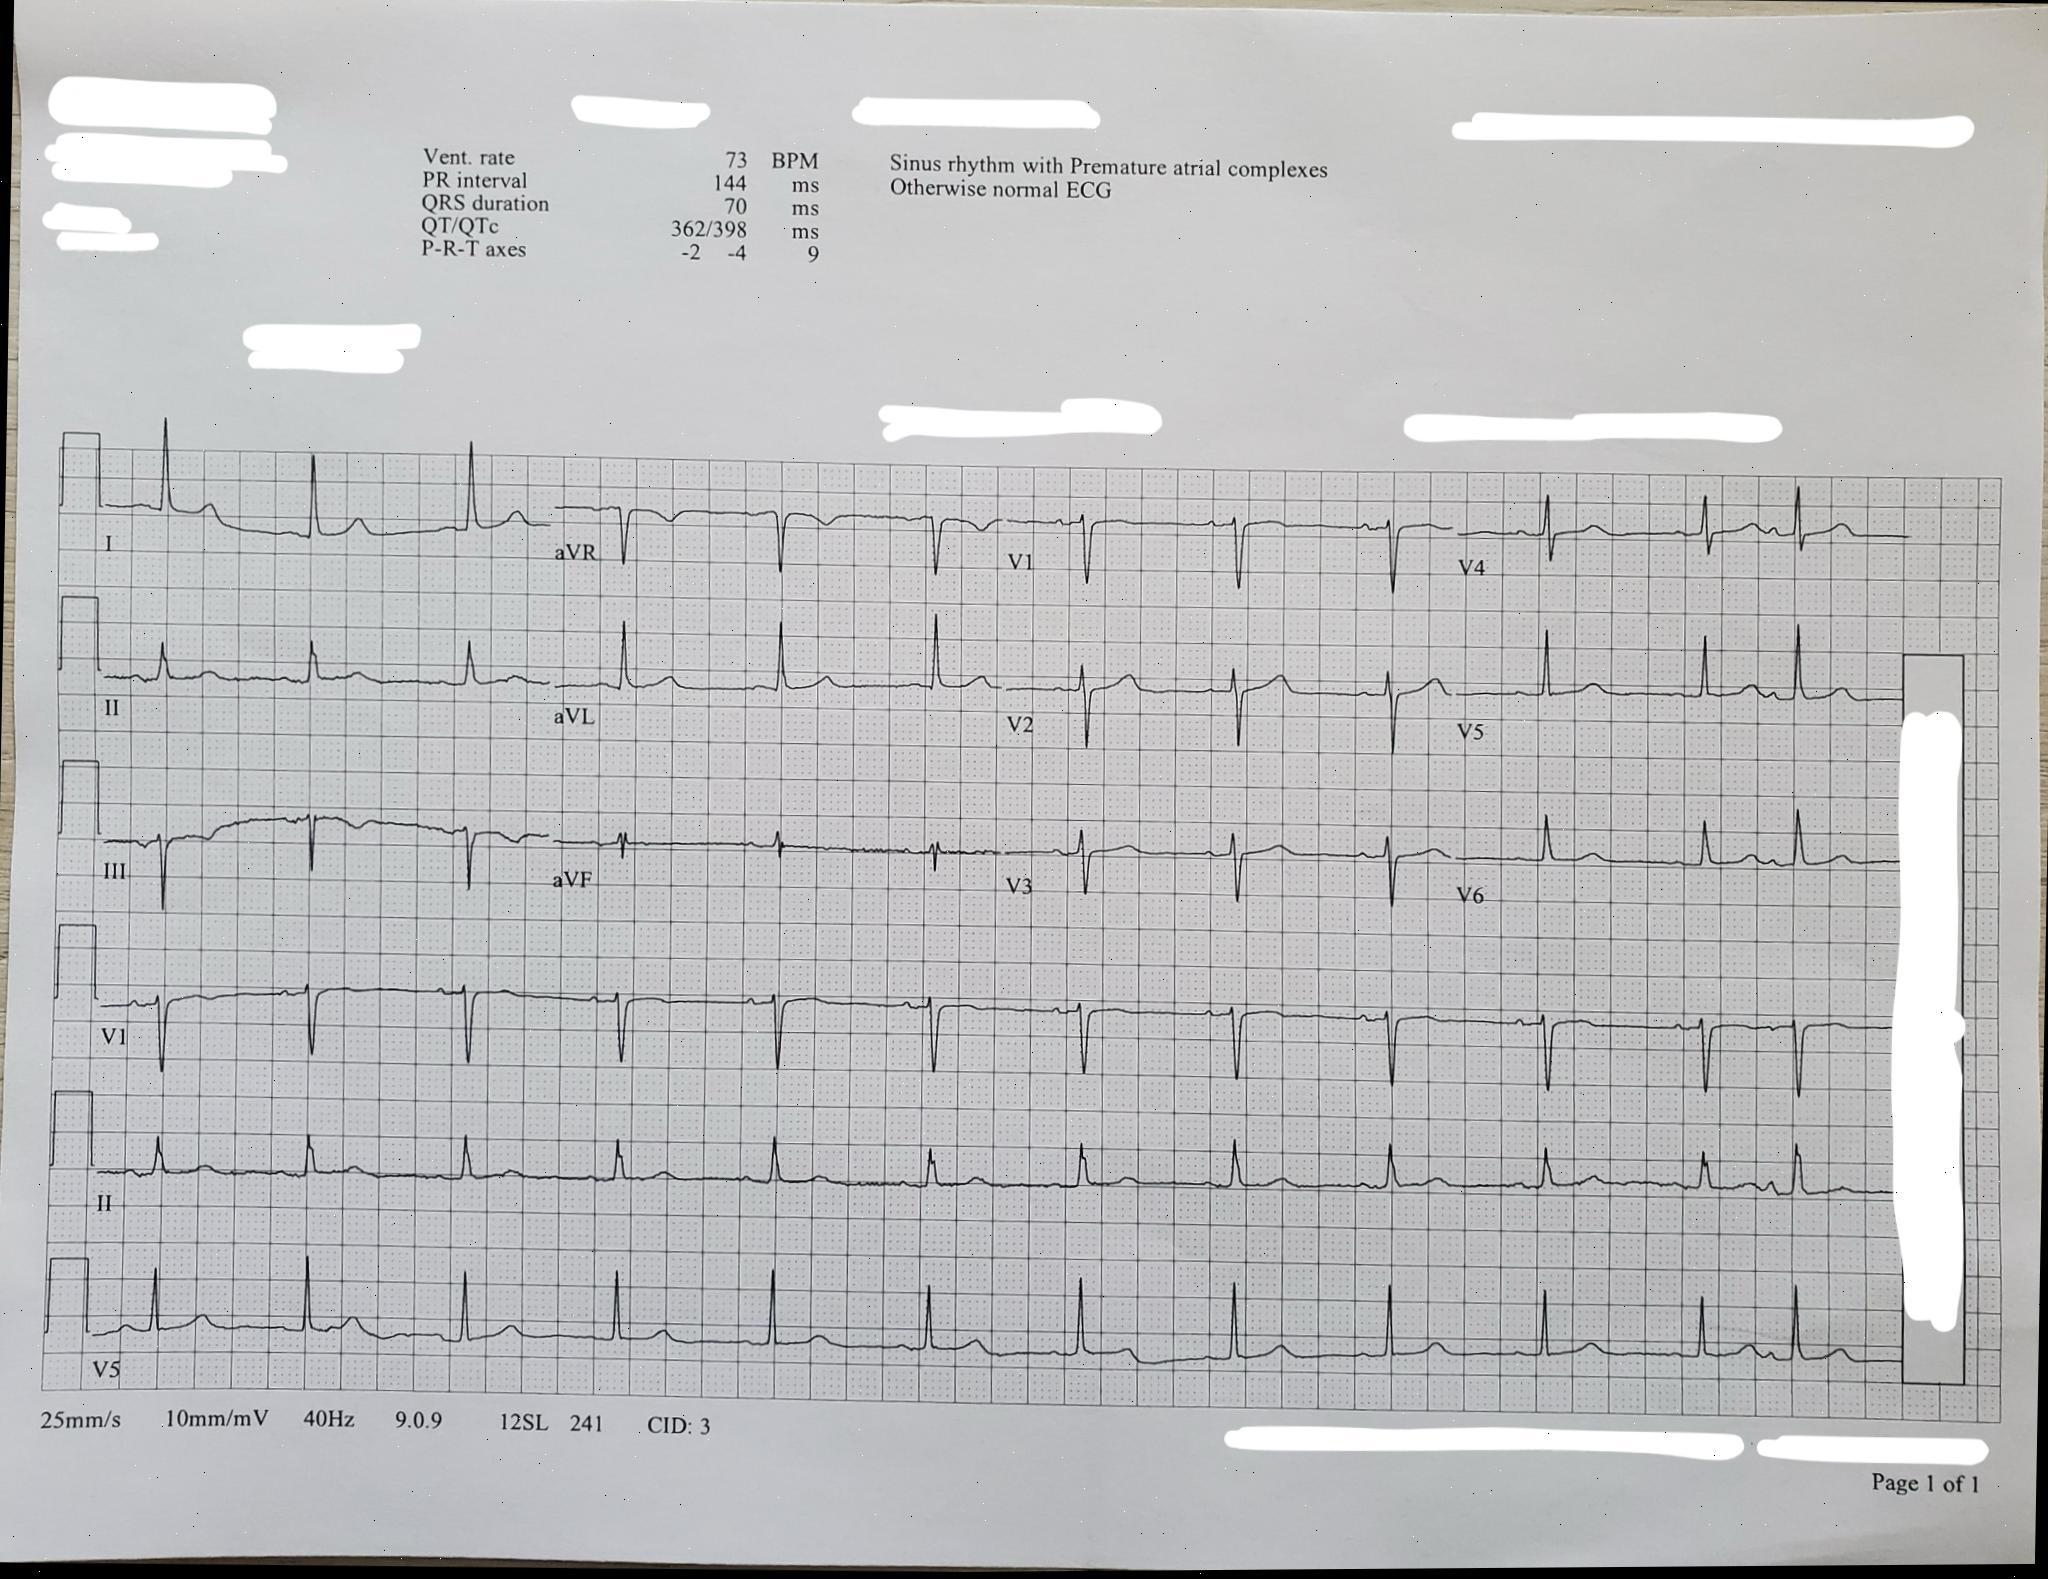Lead_I: (88, 415, 541, 584)
Lead_II: (91, 589, 542, 758)
Lead_III: (88, 771, 539, 930)
Lead_II_ext: (86, 1100, 1876, 1259)
Lead_V1: (1002, 458, 1456, 615), (99, 949, 536, 1103)
Lead_V2: (1002, 612, 1459, 773)
Lead_V3: (993, 780, 1454, 957)
Lead_V4: (1453, 473, 1932, 614)
Lead_V5: (1456, 605, 1892, 765), (86, 1251, 536, 1403)
Lead_V6: (1448, 786, 1889, 945)
Lead_aVF: (537, 780, 983, 959)
Lead_aVL: (541, 597, 988, 773)
Lead_aVR: (544, 449, 1000, 595)
